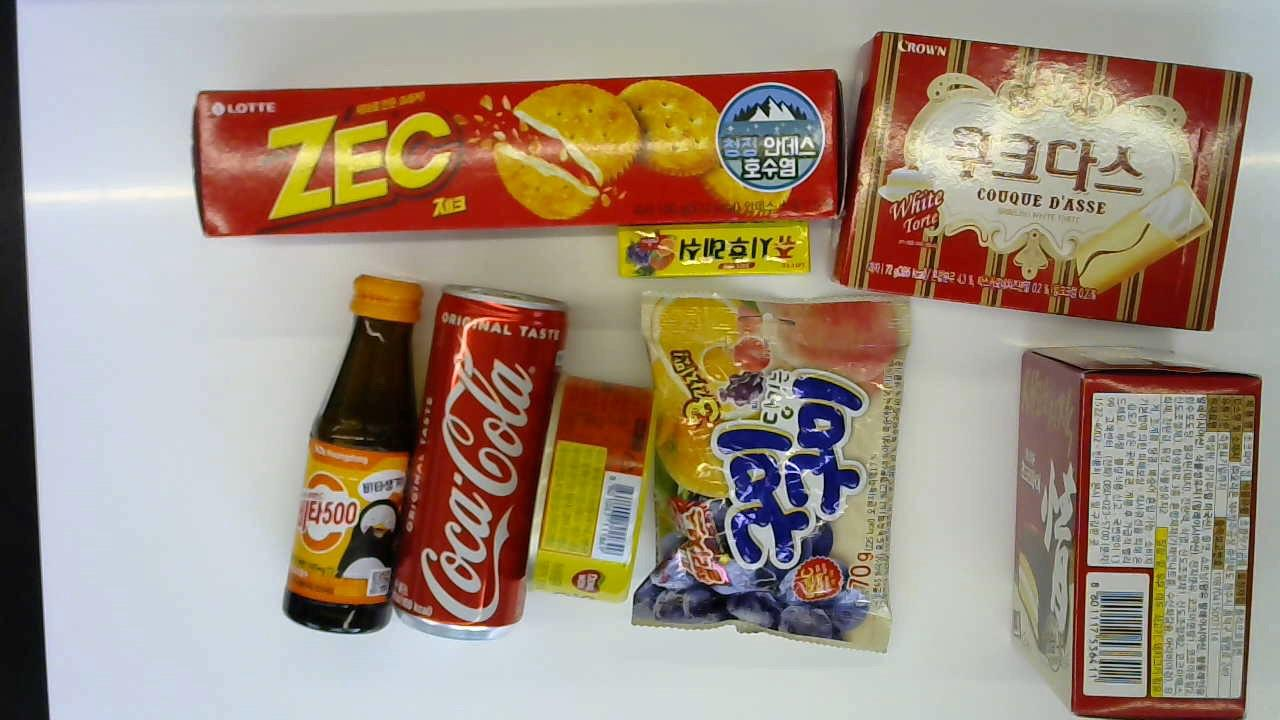chocopie: (1012, 352, 1256, 713)
coke: (393, 280, 566, 638)
couque_white: (825, 29, 1256, 327)
gumi_gumi: (636, 286, 917, 661)
juicyfresh: (616, 219, 812, 280)
tuna: (522, 370, 652, 604)
vita500: (280, 270, 421, 633)
zec: (191, 71, 836, 236)
